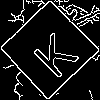K: (24, 24, 81, 81)
